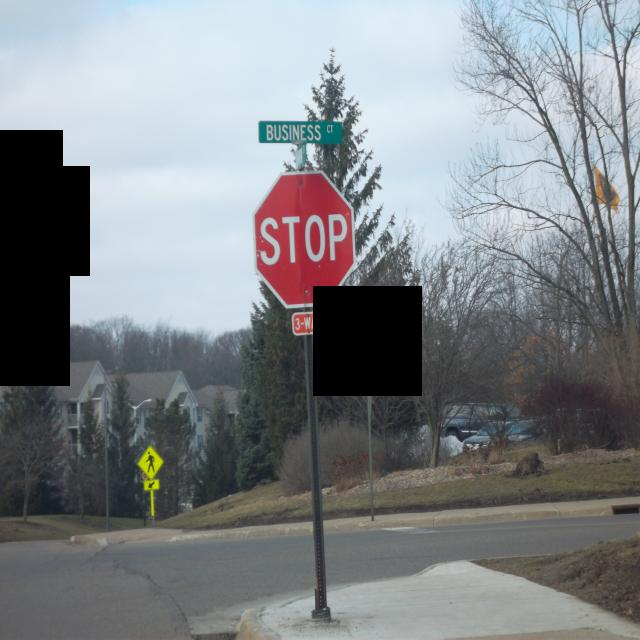regulatory: (287, 310, 330, 340)
stop: (248, 160, 366, 310)
warning: (136, 444, 164, 480), (142, 479, 161, 493)
